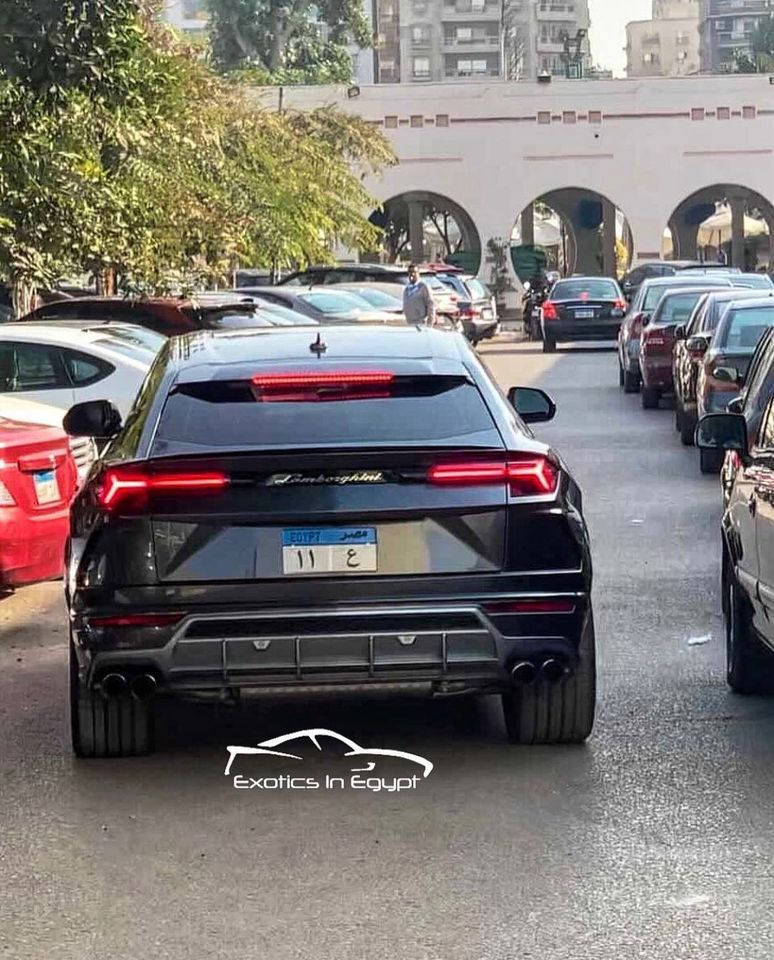carpl: (282, 525, 380, 575)
